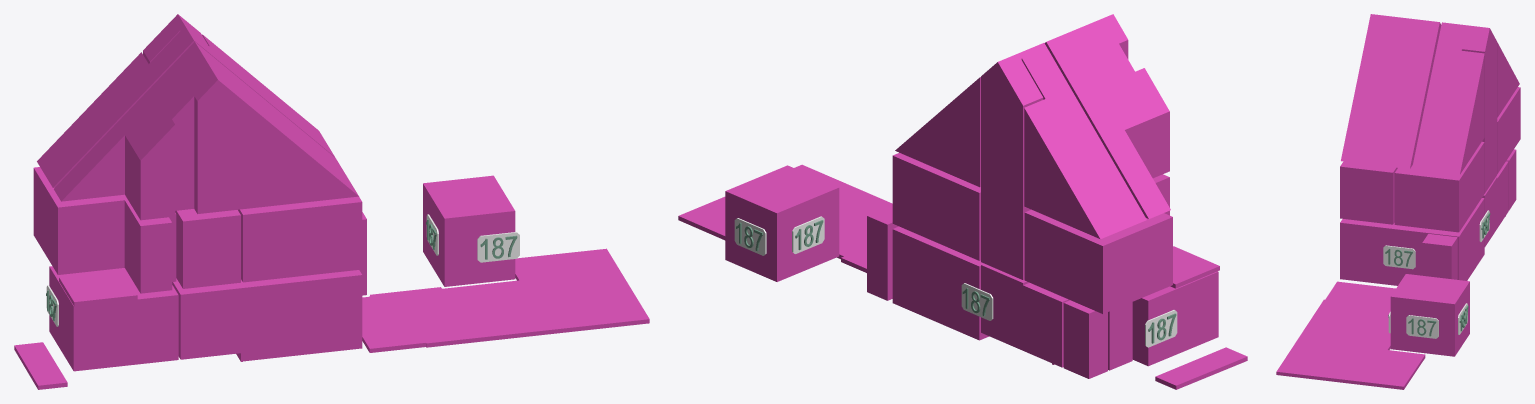
The picture shows the model from 3 angles, left to right: view 1: azimuth 30°, elevation 25°; view 2: azimuth 150°, elevation 25°; view 3: azimuth 270°, elevation 25°; orthographic projection. The views are drawn at different scales.
Parts seen in each view (by area): view 1: g_6, g_15, g_0, g_11, g_10, g_1, g_5, g_7, g_12, g_17, g_16, g_33 (+1 smaller); view 2: g_7, g_6, g_11, g_5, g_2, g_0, g_9, g_8, g_1, g_15, g_14, g_4 (+7 smaller); view 3: g_6, g_15, g_7, g_0, g_9, g_5, g_10, g_8, g_3, g_11, g_2, g_14 (+3 smaller).
Boxes of the visible parts, x1,y1,x2,y2 form: g_6: (54,42,358,220); g_15: (362,248,649,352); g_0: (172,270,362,361); g_11: (33,167,176,293); g_10: (238,196,362,282); g_1: (49,266,178,371); g_5: (423,175,515,286); g_7: (37,27,334,187); g_12: (175,209,240,288); g_17: (59,270,137,306); g_16: (14,342,67,389); g_33: (477,232,519,262); g_7: (895,43,1146,239); g_6: (1044,14,1170,218); g_11: (1024,174,1172,313); g_5: (725,165,839,281); g_2: (981,263,1132,370); g_0: (892,226,988,340); g_9: (892,152,980,260); g_8: (981,53,1043,206); g_1: (1132,271,1218,366); g_15: (678,164,892,272); g_14: (981,188,1030,279); g_4: (1063,300,1107,378); g_6: (1341,14,1441,169); g_15: (1276,281,1425,389); g_7: (1412,22,1519,174); g_0: (1340,198,1484,285); g_9: (1394,141,1484,232); g_5: (1390,274,1469,356); g_10: (1340,161,1397,224); g_8: (1462,25,1497,136); g_3: (1422,234,1457,279); g_11: (1497,87,1520,173); g_2: (1482,161,1508,246); g_14: (1482,119,1497,193).
Size of the model in its own units: 21.04 by 10.25 by 10.21.
